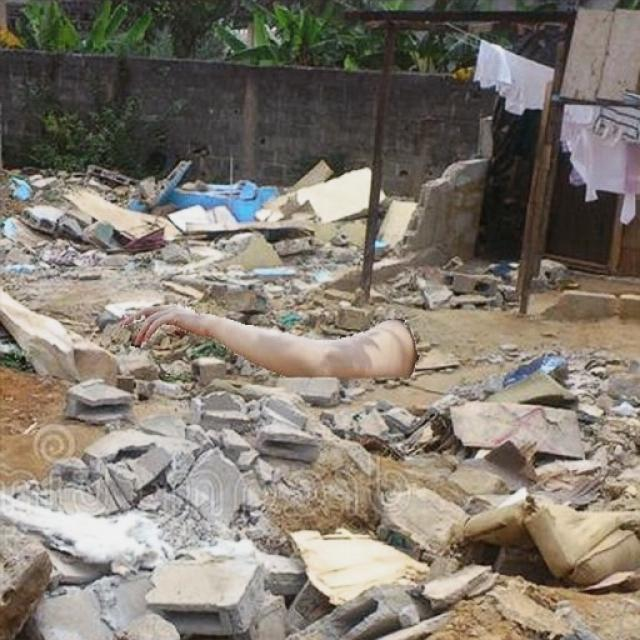Person in Rubble: (120, 304, 419, 376)
